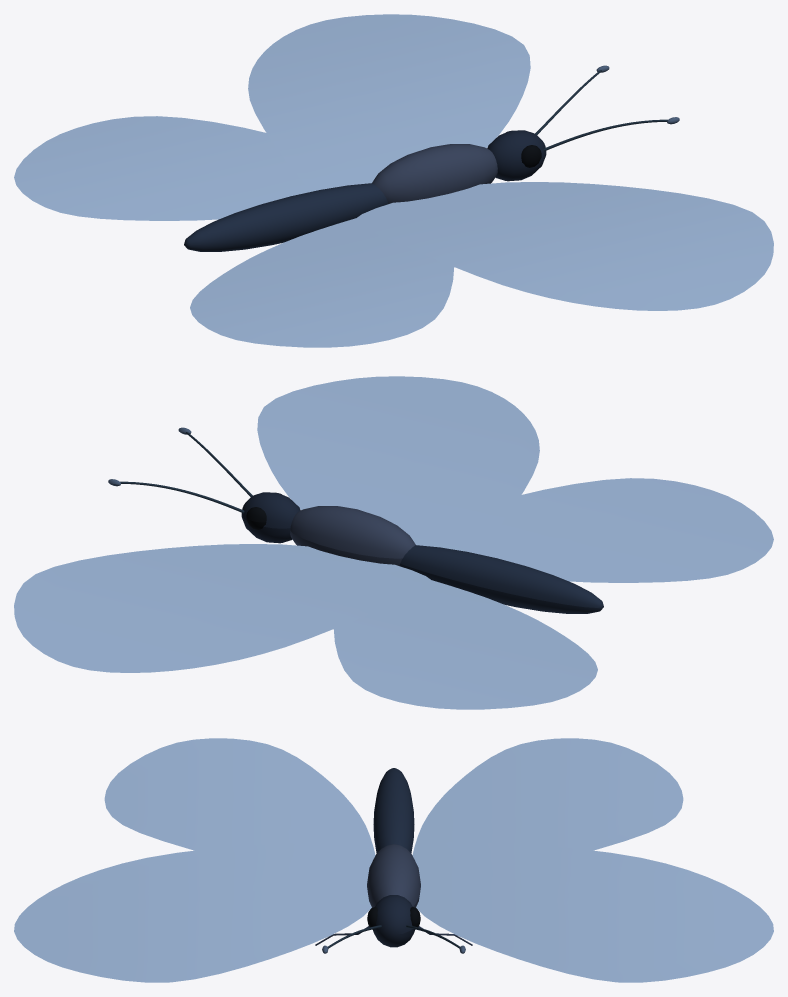
The model's file is SM_DBA_ButterflyAzure.fbx.
3 views of the same model, one above another, from view 1: azimuth 30°, elevation 25°; view 2: azimuth 150°, elevation 25°; view 3: azimuth 270°, elevation 25° (orthographic). The views are drawn at different scales.
Visible parts, largest first — view 1: SM_DBA_ButterflyAzure; view 2: SM_DBA_ButterflyAzure; view 3: SM_DBA_ButterflyAzure.
Part boxes in pixels (x1=…): SM_DBA_ButterflyAzure: x1=14, y1=14, x2=773, y2=347; SM_DBA_ButterflyAzure: x1=14, y1=376, x2=773, y2=709; SM_DBA_ButterflyAzure: x1=14, y1=738, x2=773, y2=982.
Size of the model in its own units: 0.126 by 0.099 by 0.0166.
